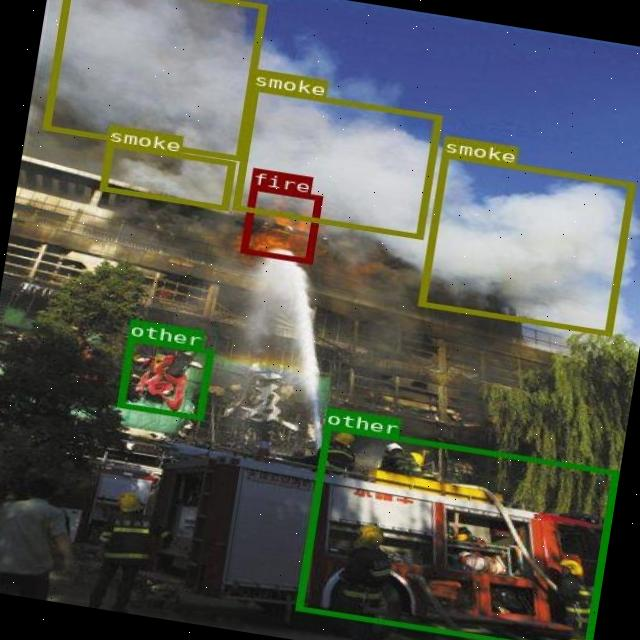fire: (238, 184, 322, 263)
smoke: (418, 152, 634, 335), (41, 0, 265, 160), (232, 85, 442, 238), (100, 140, 235, 210)
